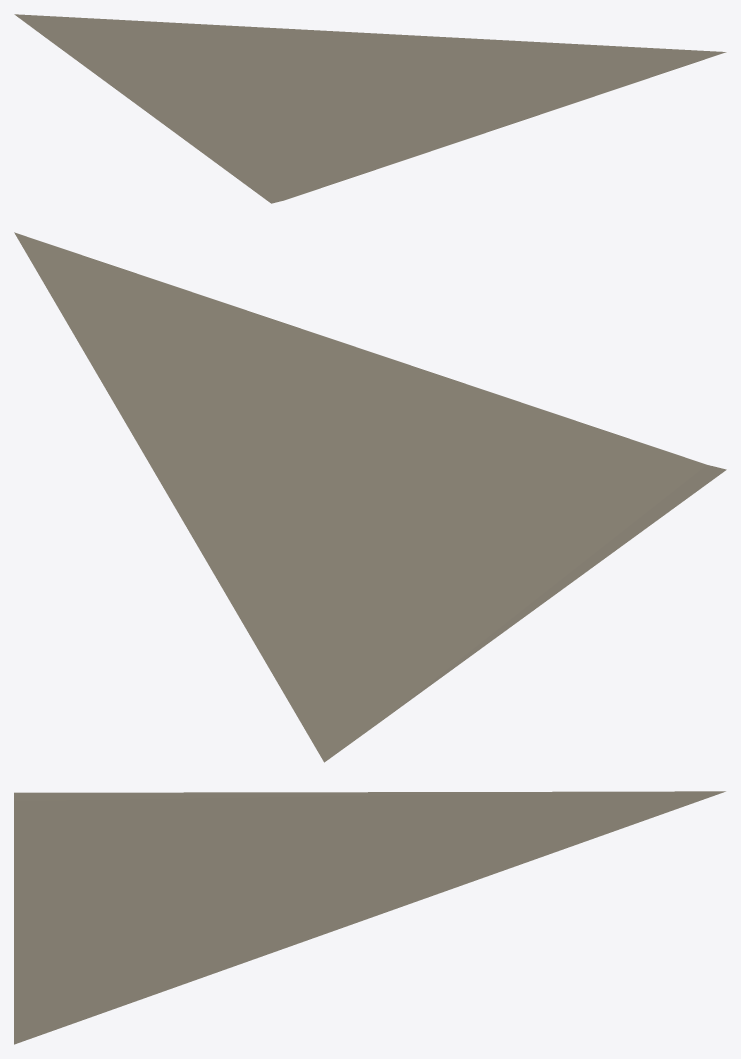
3 views of the same model, one above another, from view 1: azimuth 30°, elevation 25°; view 2: azimuth 150°, elevation 25°; view 3: azimuth 270°, elevation 25° (orthographic). The views are drawn at different scales.
Size of the model in its own units: 0.2176 by 0.0185 by 0.2129.
Materials: 1 (1 with a texture image).
